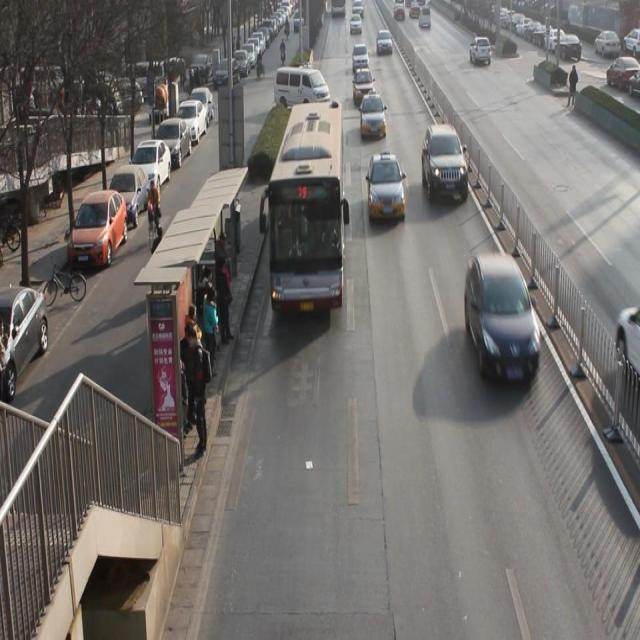car: (467, 266, 541, 382), (422, 124, 471, 213), (359, 97, 388, 145), (298, 61, 318, 111), (469, 36, 494, 68), (353, 70, 374, 104), (349, 45, 370, 76), (376, 30, 396, 56)
truck: (368, 154, 406, 218), (292, 68, 328, 116)
van: (267, 101, 343, 310)
